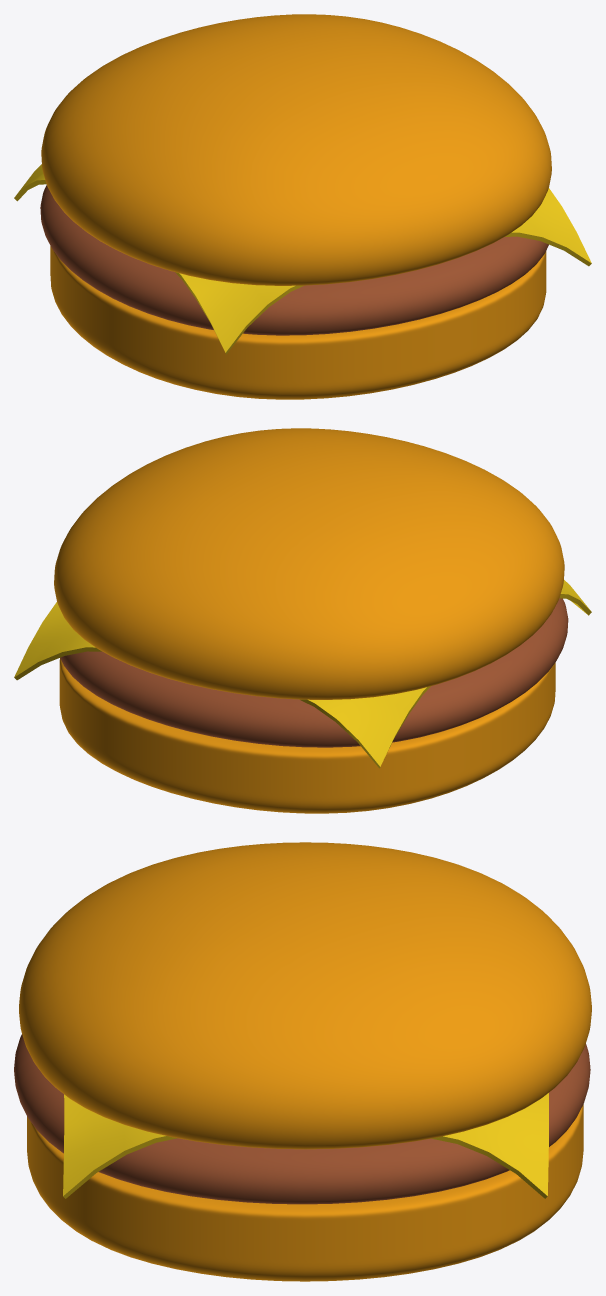
The model's file is hamburger.glb.
3 views of the same model, one above another, from view 1: azimuth 30°, elevation 25°; view 2: azimuth 150°, elevation 25°; view 3: azimuth 270°, elevation 25° (orthographic). The views are drawn at different scales.
Visible parts, largest first — view 1: 立方體.002, 立方體, 立方體.001, 平面; view 2: 立方體.002, 立方體, 立方體.001, 平面; view 3: 立方體.002, 立方體, 立方體.001, 平面.
Boxes of the visible parts, bbox=[...] form: 立方體.002: bbox=[41, 14, 551, 285]; 立方體: bbox=[50, 246, 546, 399]; 立方體.001: bbox=[40, 185, 548, 335]; 平面: bbox=[14, 164, 591, 354]; 立方體.002: bbox=[54, 428, 564, 699]; 立方體: bbox=[59, 658, 555, 813]; 立方體.001: bbox=[60, 598, 568, 747]; 平面: bbox=[14, 580, 591, 768]; 立方體.002: bbox=[19, 842, 591, 1149]; 立方體: bbox=[27, 1104, 583, 1281]; 立方體.001: bbox=[14, 1034, 590, 1204]; 平面: bbox=[63, 1093, 548, 1198].
Size of the model in its own units: 9.34 by 5.27 by 9.37.
